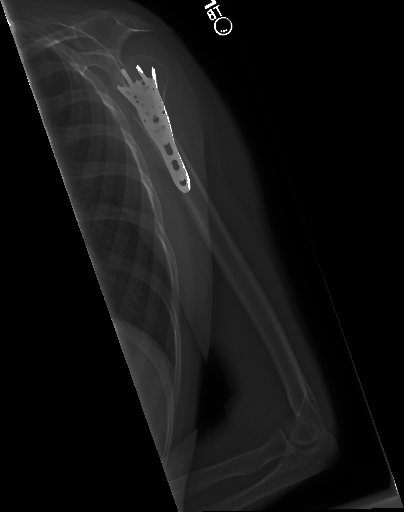implant: (108, 62, 191, 197)
